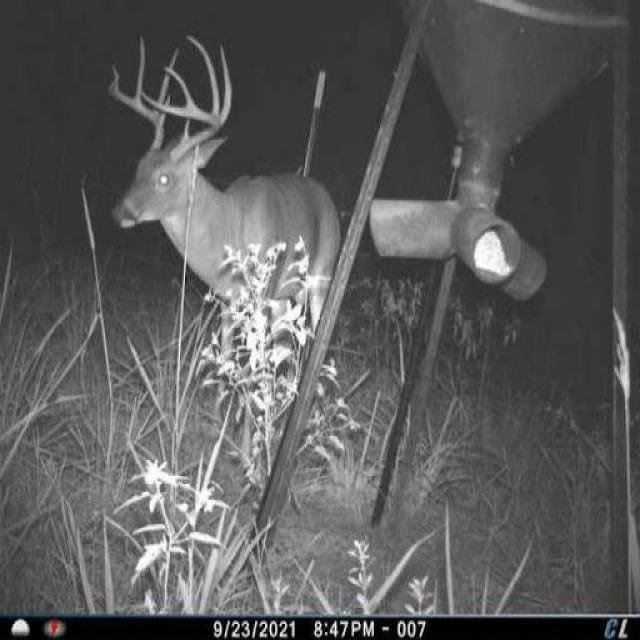deer: (98, 30, 356, 423)
